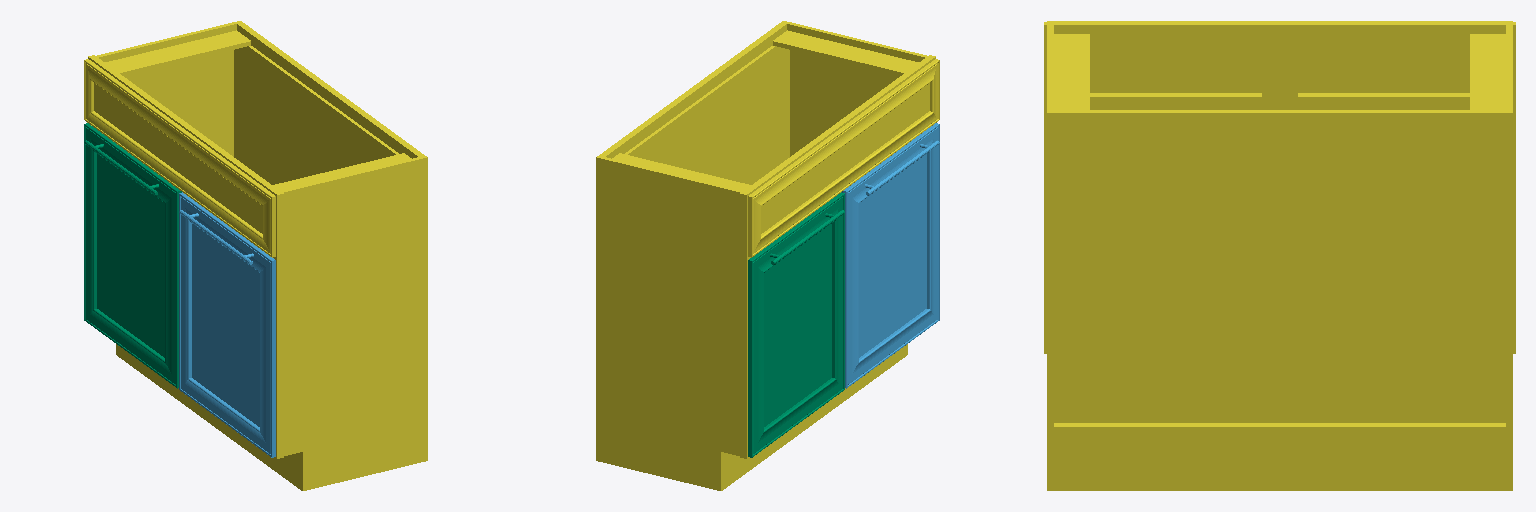
The robot description file, URDF, robot "partnet_2b3f95e3a1ae1e3f824662341ce2b233":
<?xml version="1.0" ?>
<robot name="partnet_2b3f95e3a1ae1e3f824662341ce2b233">
	<link name="base"/>
	<link name="link_0">
		<visual name="cabinet_door_surface-11">
			<origin xyz="-0.6989321953097379 -0.3683679997920989 -0.3397651867216073"/>
			<geometry>
				<mesh filename="textured_objs/original-58.obj"/>
			</geometry>
		</visual>
		<visual name="cabinet_door_surface-11">
			<origin xyz="-0.6989321953097379 -0.3683679997920989 -0.3397651867216073"/>
			<geometry>
				<mesh filename="textured_objs/original-62.obj"/>
			</geometry>
		</visual>
		<visual name="cabinet_door_surface-11">
			<origin xyz="-0.6989321953097379 -0.3683679997920989 -0.3397651867216073"/>
			<geometry>
				<mesh filename="textured_objs/original-53.obj"/>
			</geometry>
		</visual>
		<visual name="cabinet_door_surface-11">
			<origin xyz="-0.6989321953097379 -0.3683679997920989 -0.3397651867216073"/>
			<geometry>
				<mesh filename="textured_objs/original-60.obj"/>
			</geometry>
		</visual>
		<visual name="cabinet_door_surface-11">
			<origin xyz="-0.6989321953097379 -0.3683679997920989 -0.3397651867216073"/>
			<geometry>
				<mesh filename="textured_objs/original-63.obj"/>
			</geometry>
		</visual>
		<visual name="cabinet_door_surface-11">
			<origin xyz="-0.6989321953097379 -0.3683679997920989 -0.3397651867216073"/>
			<geometry>
				<mesh filename="textured_objs/original-54.obj"/>
			</geometry>
		</visual>
		<visual name="cabinet_door_surface-11">
			<origin xyz="-0.6989321953097379 -0.3683679997920989 -0.3397651867216073"/>
			<geometry>
				<mesh filename="textured_objs/original-55.obj"/>
			</geometry>
		</visual>
		<visual name="cabinet_door_surface-11">
			<origin xyz="-0.6989321953097379 -0.3683679997920989 -0.3397651867216073"/>
			<geometry>
				<mesh filename="textured_objs/original-61.obj"/>
			</geometry>
		</visual>
		<visual name="cabinet_door_surface-11">
			<origin xyz="-0.6989321953097379 -0.3683679997920989 -0.3397651867216073"/>
			<geometry>
				<mesh filename="textured_objs/original-56.obj"/>
			</geometry>
		</visual>
		<visual name="cabinet_door_surface-11">
			<origin xyz="-0.6989321953097379 -0.3683679997920989 -0.3397651867216073"/>
			<geometry>
				<mesh filename="textured_objs/original-59.obj"/>
			</geometry>
		</visual>
		<visual name="handle-12">
			<origin xyz="-0.6989321953097379 -0.3683679997920989 -0.3397651867216073"/>
			<geometry>
				<mesh filename="textured_objs/original-67.obj"/>
			</geometry>
		</visual>
		<visual name="handle-12">
			<origin xyz="-0.6989321953097379 -0.3683679997920989 -0.3397651867216073"/>
			<geometry>
				<mesh filename="textured_objs/original-65.obj"/>
			</geometry>
		</visual>
		<visual name="handle-12">
			<origin xyz="-0.6989321953097379 -0.3683679997920989 -0.3397651867216073"/>
			<geometry>
				<mesh filename="textured_objs/original-66.obj"/>
			</geometry>
		</visual>
		<collision>
			<origin xyz="-0.6989321953097379 -0.3683679997920989 -0.3397651867216073"/>
			<geometry>
				<mesh filename="textured_objs/original-58.obj"/>
			</geometry>
		</collision>
		<collision>
			<origin xyz="-0.6989321953097379 -0.3683679997920989 -0.3397651867216073"/>
			<geometry>
				<mesh filename="textured_objs/original-62.obj"/>
			</geometry>
		</collision>
		<collision>
			<origin xyz="-0.6989321953097379 -0.3683679997920989 -0.3397651867216073"/>
			<geometry>
				<mesh filename="textured_objs/original-53.obj"/>
			</geometry>
		</collision>
		<collision>
			<origin xyz="-0.6989321953097379 -0.3683679997920989 -0.3397651867216073"/>
			<geometry>
				<mesh filename="textured_objs/original-60.obj"/>
			</geometry>
		</collision>
		<collision>
			<origin xyz="-0.6989321953097379 -0.3683679997920989 -0.3397651867216073"/>
			<geometry>
				<mesh filename="textured_objs/original-63.obj"/>
			</geometry>
		</collision>
		<collision>
			<origin xyz="-0.6989321953097379 -0.3683679997920989 -0.3397651867216073"/>
			<geometry>
				<mesh filename="textured_objs/original-54.obj"/>
			</geometry>
		</collision>
		<collision>
			<origin xyz="-0.6989321953097379 -0.3683679997920989 -0.3397651867216073"/>
			<geometry>
				<mesh filename="textured_objs/original-55.obj"/>
			</geometry>
		</collision>
		<collision>
			<origin xyz="-0.6989321953097379 -0.3683679997920989 -0.3397651867216073"/>
			<geometry>
				<mesh filename="textured_objs/original-61.obj"/>
			</geometry>
		</collision>
		<collision>
			<origin xyz="-0.6989321953097379 -0.3683679997920989 -0.3397651867216073"/>
			<geometry>
				<mesh filename="textured_objs/original-56.obj"/>
			</geometry>
		</collision>
		<collision>
			<origin xyz="-0.6989321953097379 -0.3683679997920989 -0.3397651867216073"/>
			<geometry>
				<mesh filename="textured_objs/original-59.obj"/>
			</geometry>
		</collision>
		<collision>
			<origin xyz="-0.6989321953097379 -0.3683679997920989 -0.3397651867216073"/>
			<geometry>
				<mesh filename="textured_objs/original-67.obj"/>
			</geometry>
		</collision>
		<collision>
			<origin xyz="-0.6989321953097379 -0.3683679997920989 -0.3397651867216073"/>
			<geometry>
				<mesh filename="textured_objs/original-65.obj"/>
			</geometry>
		</collision>
		<collision>
			<origin xyz="-0.6989321953097379 -0.3683679997920989 -0.3397651867216073"/>
			<geometry>
				<mesh filename="textured_objs/original-66.obj"/>
			</geometry>
		</collision>
	</link>
	<joint name="joint_0" type="revolute">
		<origin xyz="0.6989321953097379 0.3683679997920989 0.3397651867216073"/>
		<axis xyz="0 1 0"/>
		<child link="link_0"/>
		<parent link="link_2"/>
		<limit lower="0.0" upper="1.8158405537749003"/>
	</joint>
	<link name="link_1">
		<visual name="cabinet_door_surface-9">
			<origin xyz="0.7417764979513077 0.4749380052089691 -0.3389278181159854"/>
			<geometry>
				<mesh filename="textured_objs/original-37.obj"/>
			</geometry>
		</visual>
		<visual name="cabinet_door_surface-9">
			<origin xyz="0.7417764979513077 0.4749380052089691 -0.3389278181159854"/>
			<geometry>
				<mesh filename="textured_objs/original-44.obj"/>
			</geometry>
		</visual>
		<visual name="cabinet_door_surface-9">
			<origin xyz="0.7417764979513077 0.4749380052089691 -0.3389278181159854"/>
			<geometry>
				<mesh filename="textured_objs/original-46.obj"/>
			</geometry>
		</visual>
		<visual name="cabinet_door_surface-9">
			<origin xyz="0.7417764979513077 0.4749380052089691 -0.3389278181159854"/>
			<geometry>
				<mesh filename="textured_objs/original-45.obj"/>
			</geometry>
		</visual>
		<visual name="cabinet_door_surface-9">
			<origin xyz="0.7417764979513077 0.4749380052089691 -0.3389278181159854"/>
			<geometry>
				<mesh filename="textured_objs/original-38.obj"/>
			</geometry>
		</visual>
		<visual name="cabinet_door_surface-9">
			<origin xyz="0.7417764979513077 0.4749380052089691 -0.3389278181159854"/>
			<geometry>
				<mesh filename="textured_objs/original-42.obj"/>
			</geometry>
		</visual>
		<visual name="cabinet_door_surface-9">
			<origin xyz="0.7417764979513077 0.4749380052089691 -0.3389278181159854"/>
			<geometry>
				<mesh filename="textured_objs/original-47.obj"/>
			</geometry>
		</visual>
		<visual name="cabinet_door_surface-9">
			<origin xyz="0.7417764979513077 0.4749380052089691 -0.3389278181159854"/>
			<geometry>
				<mesh filename="textured_objs/original-39.obj"/>
			</geometry>
		</visual>
		<visual name="cabinet_door_surface-9">
			<origin xyz="0.7417764979513077 0.4749380052089691 -0.3389278181159854"/>
			<geometry>
				<mesh filename="textured_objs/original-40.obj"/>
			</geometry>
		</visual>
		<visual name="cabinet_door_surface-9">
			<origin xyz="0.7417764979513077 0.4749380052089691 -0.3389278181159854"/>
			<geometry>
				<mesh filename="textured_objs/original-43.obj"/>
			</geometry>
		</visual>
		<visual name="handle-10">
			<origin xyz="0.7417764979513077 0.4749380052089691 -0.3389278181159854"/>
			<geometry>
				<mesh filename="textured_objs/original-51.obj"/>
			</geometry>
		</visual>
		<visual name="handle-10">
			<origin xyz="0.7417764979513077 0.4749380052089691 -0.3389278181159854"/>
			<geometry>
				<mesh filename="textured_objs/original-49.obj"/>
			</geometry>
		</visual>
		<visual name="handle-10">
			<origin xyz="0.7417764979513077 0.4749380052089691 -0.3389278181159854"/>
			<geometry>
				<mesh filename="textured_objs/original-50.obj"/>
			</geometry>
		</visual>
		<collision>
			<origin xyz="0.7417764979513077 0.4749380052089691 -0.3389278181159854"/>
			<geometry>
				<mesh filename="textured_objs/original-37.obj"/>
			</geometry>
		</collision>
		<collision>
			<origin xyz="0.7417764979513077 0.4749380052089691 -0.3389278181159854"/>
			<geometry>
				<mesh filename="textured_objs/original-44.obj"/>
			</geometry>
		</collision>
		<collision>
			<origin xyz="0.7417764979513077 0.4749380052089691 -0.3389278181159854"/>
			<geometry>
				<mesh filename="textured_objs/original-46.obj"/>
			</geometry>
		</collision>
		<collision>
			<origin xyz="0.7417764979513077 0.4749380052089691 -0.3389278181159854"/>
			<geometry>
				<mesh filename="textured_objs/original-45.obj"/>
			</geometry>
		</collision>
		<collision>
			<origin xyz="0.7417764979513077 0.4749380052089691 -0.3389278181159854"/>
			<geometry>
				<mesh filename="textured_objs/original-38.obj"/>
			</geometry>
		</collision>
		<collision>
			<origin xyz="0.7417764979513077 0.4749380052089691 -0.3389278181159854"/>
			<geometry>
				<mesh filename="textured_objs/original-42.obj"/>
			</geometry>
		</collision>
		<collision>
			<origin xyz="0.7417764979513077 0.4749380052089691 -0.3389278181159854"/>
			<geometry>
				<mesh filename="textured_objs/original-47.obj"/>
			</geometry>
		</collision>
		<collision>
			<origin xyz="0.7417764979513077 0.4749380052089691 -0.3389278181159854"/>
			<geometry>
				<mesh filename="textured_objs/original-39.obj"/>
			</geometry>
		</collision>
		<collision>
			<origin xyz="0.7417764979513077 0.4749380052089691 -0.3389278181159854"/>
			<geometry>
				<mesh filename="textured_objs/original-40.obj"/>
			</geometry>
		</collision>
		<collision>
			<origin xyz="0.7417764979513077 0.4749380052089691 -0.3389278181159854"/>
			<geometry>
				<mesh filename="textured_objs/original-43.obj"/>
			</geometry>
		</collision>
		<collision>
			<origin xyz="0.7417764979513077 0.4749380052089691 -0.3389278181159854"/>
			<geometry>
				<mesh filename="textured_objs/original-51.obj"/>
			</geometry>
		</collision>
		<collision>
			<origin xyz="0.7417764979513077 0.4749380052089691 -0.3389278181159854"/>
			<geometry>
				<mesh filename="textured_objs/original-49.obj"/>
			</geometry>
		</collision>
		<collision>
			<origin xyz="0.7417764979513077 0.4749380052089691 -0.3389278181159854"/>
			<geometry>
				<mesh filename="textured_objs/original-50.obj"/>
			</geometry>
		</collision>
	</link>
	<joint name="joint_1" type="revolute">
		<origin xyz="-0.7417764979513077 -0.4749380052089691 0.3389278181159854"/>
		<axis xyz="0 -1 0"/>
		<child link="link_1"/>
		<parent link="link_2"/>
		<limit lower="0.0" upper="1.8158405537749003"/>
	</joint>
	<link name="link_2">
		<visual name="drawer_front-8">
			<origin xyz="0 0 0"/>
			<geometry>
				<mesh filename="textured_objs/original-32.obj"/>
			</geometry>
		</visual>
		<visual name="drawer_front-8">
			<origin xyz="0 0 0"/>
			<geometry>
				<mesh filename="textured_objs/original-30.obj"/>
			</geometry>
		</visual>
		<visual name="drawer_front-8">
			<origin xyz="0 0 0"/>
			<geometry>
				<mesh filename="textured_objs/original-33.obj"/>
			</geometry>
		</visual>
		<visual name="drawer_front-8">
			<origin xyz="0 0 0"/>
			<geometry>
				<mesh filename="textured_objs/original-25.obj"/>
			</geometry>
		</visual>
		<visual name="drawer_front-8">
			<origin xyz="0 0 0"/>
			<geometry>
				<mesh filename="textured_objs/original-34.obj"/>
			</geometry>
		</visual>
		<visual name="drawer_front-8">
			<origin xyz="0 0 0"/>
			<geometry>
				<mesh filename="textured_objs/original-28.obj"/>
			</geometry>
		</visual>
		<visual name="drawer_front-8">
			<origin xyz="0 0 0"/>
			<geometry>
				<mesh filename="textured_objs/original-27.obj"/>
			</geometry>
		</visual>
		<visual name="drawer_front-8">
			<origin xyz="0 0 0"/>
			<geometry>
				<mesh filename="textured_objs/original-35.obj"/>
			</geometry>
		</visual>
		<visual name="drawer_front-8">
			<origin xyz="0 0 0"/>
			<geometry>
				<mesh filename="textured_objs/original-26.obj"/>
			</geometry>
		</visual>
		<visual name="drawer_front-8">
			<origin xyz="0 0 0"/>
			<geometry>
				<mesh filename="textured_objs/original-31.obj"/>
			</geometry>
		</visual>
		<visual name="back_panel-20">
			<origin xyz="0 0 0"/>
			<geometry>
				<mesh filename="textured_objs/original-5.obj"/>
			</geometry>
		</visual>
		<visual name="bottom_panel-21">
			<origin xyz="0 0 0"/>
			<geometry>
				<mesh filename="textured_objs/original-2.obj"/>
			</geometry>
		</visual>
		<visual name="frame_vertical_bar-22">
			<origin xyz="0 0 0"/>
			<geometry>
				<mesh filename="textured_objs/original-22.obj"/>
			</geometry>
		</visual>
		<visual name="frame_vertical_bar-23">
			<origin xyz="0 0 0"/>
			<geometry>
				<mesh filename="textured_objs/original-21.obj"/>
			</geometry>
		</visual>
		<visual name="frame_vertical_bar-24">
			<origin xyz="0 0 0"/>
			<geometry>
				<mesh filename="textured_objs/original-3.obj"/>
			</geometry>
		</visual>
		<visual name="frame_vertical_bar-25">
			<origin xyz="0 0 0"/>
			<geometry>
				<mesh filename="textured_objs/original-7.obj"/>
			</geometry>
		</visual>
		<visual name="frame_vertical_bar-26">
			<origin xyz="0 0 0"/>
			<geometry>
				<mesh filename="textured_objs/original-17.obj"/>
			</geometry>
		</visual>
		<visual name="frame_vertical_bar-26">
			<origin xyz="0 0 0"/>
			<geometry>
				<mesh filename="textured_objs/original-23.obj"/>
			</geometry>
		</visual>
		<visual name="frame_horizontal_bar-27">
			<origin xyz="0 0 0"/>
			<geometry>
				<mesh filename="textured_objs/original-4.obj"/>
			</geometry>
		</visual>
		<visual name="frame_horizontal_bar-28">
			<origin xyz="0 0 0"/>
			<geometry>
				<mesh filename="textured_objs/original-8.obj"/>
			</geometry>
		</visual>
		<visual name="frame_horizontal_bar-29">
			<origin xyz="0 0 0"/>
			<geometry>
				<mesh filename="textured_objs/original-18.obj"/>
			</geometry>
		</visual>
		<visual name="frame_horizontal_bar-30">
			<origin xyz="0 0 0"/>
			<geometry>
				<mesh filename="textured_objs/original-6.obj"/>
			</geometry>
		</visual>
		<visual name="vertical_side_panel-31">
			<origin xyz="0 0 0"/>
			<geometry>
				<mesh filename="textured_objs/original-11.obj"/>
			</geometry>
		</visual>
		<visual name="vertical_side_panel-31">
			<origin xyz="0 0 0"/>
			<geometry>
				<mesh filename="textured_objs/original-10.obj"/>
			</geometry>
		</visual>
		<visual name="vertical_side_panel-32">
			<origin xyz="0 0 0"/>
			<geometry>
				<mesh filename="textured_objs/original-15.obj"/>
			</geometry>
		</visual>
		<visual name="vertical_side_panel-32">
			<origin xyz="0 0 0"/>
			<geometry>
				<mesh filename="textured_objs/original-14.obj"/>
			</geometry>
		</visual>
		<visual name="other_leaf-34">
			<origin xyz="0 0 0"/>
			<geometry>
				<mesh filename="textured_objs/original-68.obj"/>
			</geometry>
		</visual>
		<visual name="base_side_panel-14">
			<origin xyz="0 0 0"/>
			<geometry>
				<mesh filename="textured_objs/original-12.obj"/>
			</geometry>
		</visual>
		<visual name="base_side_panel-15">
			<origin xyz="0 0 0"/>
			<geometry>
				<mesh filename="textured_objs/original-19.obj"/>
			</geometry>
		</visual>
		<visual name="base_side_panel-16">
			<origin xyz="0 0 0"/>
			<geometry>
				<mesh filename="textured_objs/original-16.obj"/>
			</geometry>
		</visual>
		<visual name="base_side_panel-17">
			<origin xyz="0 0 0"/>
			<geometry>
				<mesh filename="textured_objs/original-20.obj"/>
			</geometry>
		</visual>
		<collision>
			<origin xyz="0 0 0"/>
			<geometry>
				<mesh filename="textured_objs/original-32.obj"/>
			</geometry>
		</collision>
		<collision>
			<origin xyz="0 0 0"/>
			<geometry>
				<mesh filename="textured_objs/original-30.obj"/>
			</geometry>
		</collision>
		<collision>
			<origin xyz="0 0 0"/>
			<geometry>
				<mesh filename="textured_objs/original-33.obj"/>
			</geometry>
		</collision>
		<collision>
			<origin xyz="0 0 0"/>
			<geometry>
				<mesh filename="textured_objs/original-25.obj"/>
			</geometry>
		</collision>
		<collision>
			<origin xyz="0 0 0"/>
			<geometry>
				<mesh filename="textured_objs/original-34.obj"/>
			</geometry>
		</collision>
		<collision>
			<origin xyz="0 0 0"/>
			<geometry>
				<mesh filename="textured_objs/original-28.obj"/>
			</geometry>
		</collision>
		<collision>
			<origin xyz="0 0 0"/>
			<geometry>
				<mesh filename="textured_objs/original-27.obj"/>
			</geometry>
		</collision>
		<collision>
			<origin xyz="0 0 0"/>
			<geometry>
				<mesh filename="textured_objs/original-35.obj"/>
			</geometry>
		</collision>
		<collision>
			<origin xyz="0 0 0"/>
			<geometry>
				<mesh filename="textured_objs/original-26.obj"/>
			</geometry>
		</collision>
		<collision>
			<origin xyz="0 0 0"/>
			<geometry>
				<mesh filename="textured_objs/original-31.obj"/>
			</geometry>
		</collision>
		<collision>
			<origin xyz="0 0 0"/>
			<geometry>
				<mesh filename="textured_objs/original-5.obj"/>
			</geometry>
		</collision>
		<collision>
			<origin xyz="0 0 0"/>
			<geometry>
				<mesh filename="textured_objs/original-2.obj"/>
			</geometry>
		</collision>
		<collision>
			<origin xyz="0 0 0"/>
			<geometry>
				<mesh filename="textured_objs/original-22.obj"/>
			</geometry>
		</collision>
		<collision>
			<origin xyz="0 0 0"/>
			<geometry>
				<mesh filename="textured_objs/original-21.obj"/>
			</geometry>
		</collision>
		<collision>
			<origin xyz="0 0 0"/>
			<geometry>
				<mesh filename="textured_objs/original-3.obj"/>
			</geometry>
		</collision>
		<collision>
			<origin xyz="0 0 0"/>
			<geometry>
				<mesh filename="textured_objs/original-7.obj"/>
			</geometry>
		</collision>
		<collision>
			<origin xyz="0 0 0"/>
			<geometry>
				<mesh filename="textured_objs/original-17.obj"/>
			</geometry>
		</collision>
		<collision>
			<origin xyz="0 0 0"/>
			<geometry>
				<mesh filename="textured_objs/original-23.obj"/>
			</geometry>
		</collision>
		<collision>
			<origin xyz="0 0 0"/>
			<geometry>
				<mesh filename="textured_objs/original-4.obj"/>
			</geometry>
		</collision>
		<collision>
			<origin xyz="0 0 0"/>
			<geometry>
				<mesh filename="textured_objs/original-8.obj"/>
			</geometry>
		</collision>
		<collision>
			<origin xyz="0 0 0"/>
			<geometry>
				<mesh filename="textured_objs/original-18.obj"/>
			</geometry>
		</collision>
		<collision>
			<origin xyz="0 0 0"/>
			<geometry>
				<mesh filename="textured_objs/original-6.obj"/>
			</geometry>
		</collision>
		<collision>
			<origin xyz="0 0 0"/>
			<geometry>
				<mesh filename="textured_objs/original-11.obj"/>
			</geometry>
		</collision>
		<collision>
			<origin xyz="0 0 0"/>
			<geometry>
				<mesh filename="textured_objs/original-10.obj"/>
			</geometry>
		</collision>
		<collision>
			<origin xyz="0 0 0"/>
			<geometry>
				<mesh filename="textured_objs/original-15.obj"/>
			</geometry>
		</collision>
		<collision>
			<origin xyz="0 0 0"/>
			<geometry>
				<mesh filename="textured_objs/original-14.obj"/>
			</geometry>
		</collision>
		<collision>
			<origin xyz="0 0 0"/>
			<geometry>
				<mesh filename="textured_objs/original-68.obj"/>
			</geometry>
		</collision>
		<collision>
			<origin xyz="0 0 0"/>
			<geometry>
				<mesh filename="textured_objs/original-12.obj"/>
			</geometry>
		</collision>
		<collision>
			<origin xyz="0 0 0"/>
			<geometry>
				<mesh filename="textured_objs/original-19.obj"/>
			</geometry>
		</collision>
		<collision>
			<origin xyz="0 0 0"/>
			<geometry>
				<mesh filename="textured_objs/original-16.obj"/>
			</geometry>
		</collision>
		<collision>
			<origin xyz="0 0 0"/>
			<geometry>
				<mesh filename="textured_objs/original-20.obj"/>
			</geometry>
		</collision>
	</link>
	<joint name="joint_2" type="fixed">
		<origin rpy="1.570796326794897 0 -1.570796326794897" xyz="0 0 0"/>
		<child link="link_2"/>
		<parent link="base"/>
	</joint>
</robot>

--- Render facts (derived) ---
3 views of the same robot in one strip: view 1: azimuth 30°, elevation 25°; view 2: azimuth 150°, elevation 25°; view 3: azimuth 270°, elevation 25° (orthographic).
Robot: partnet_2b3f95e3a1ae1e3f824662341ce2b233 — 4 links, 3 joints (2 revolute, 1 fixed); root link base; default pose: all joints at 0.
Visible links, largest first — view 1: link_2, link_0, link_1; view 2: link_2, link_1, link_0; view 3: link_2.
Boxes of the visible links, left/top/right/bottom form: link_2: left=84, top=21, right=427, bottom=490; link_0: left=179, top=192, right=275, bottom=457; link_1: left=84, top=123, right=181, bottom=388; link_2: left=596, top=21, right=939, bottom=490; link_1: left=748, top=192, right=844, bottom=457; link_0: left=842, top=123, right=939, bottom=388; link_2: left=1044, top=21, right=1515, bottom=490.
Size in the robot's own frame: 0.7506 by 1.47 by 1.3 metres.
Meshes: 57 distinct files referenced, 57 mesh visuals loaded (57 OBJ).
